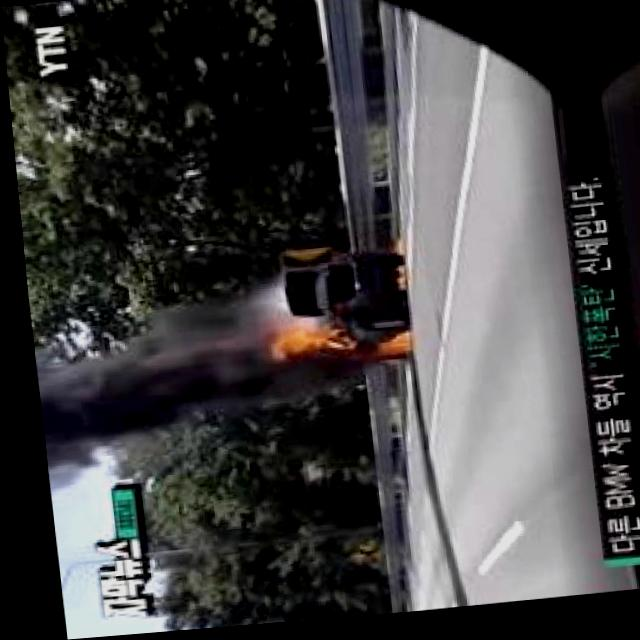helmet: (281, 318, 409, 370)
no_helmet: (22, 279, 293, 481)
